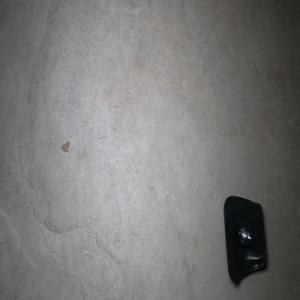LuggagePart: (222, 194, 268, 285)
